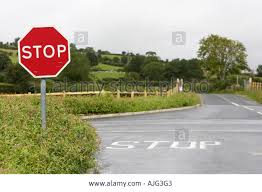stop_sign: (17, 25, 71, 79)
